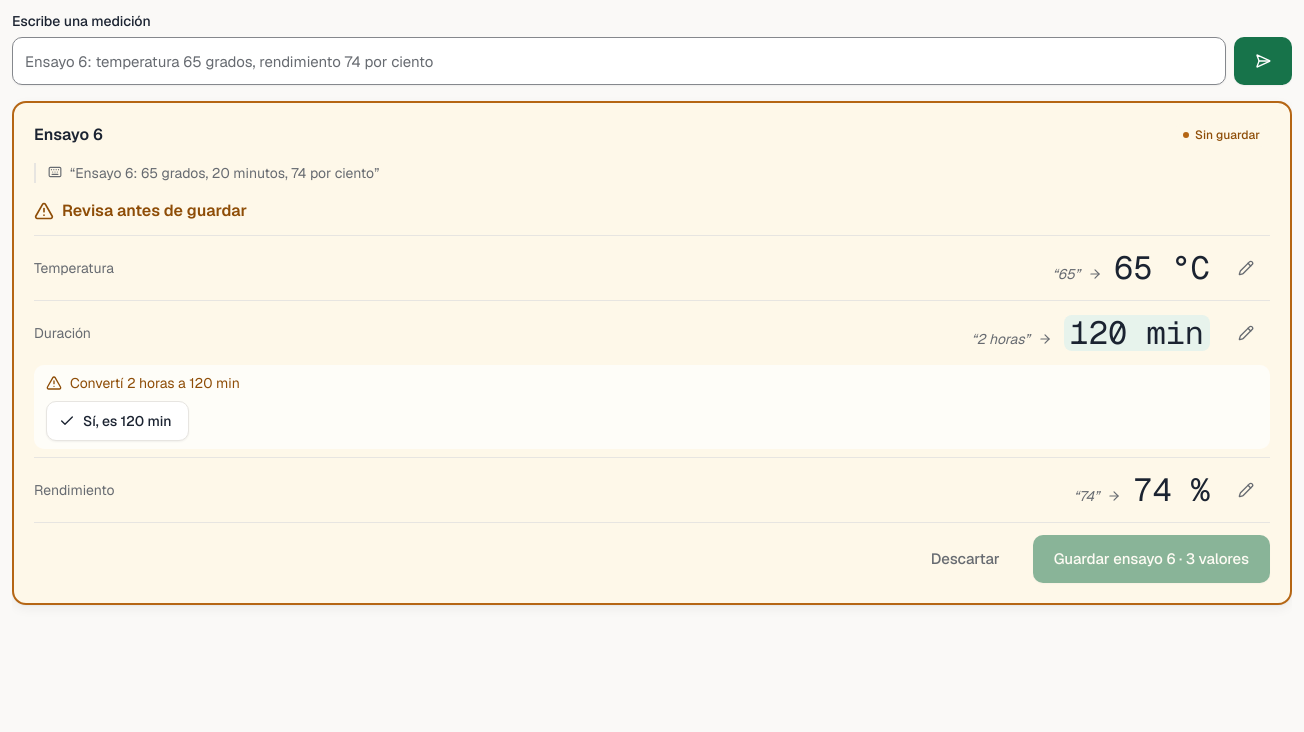
Test: CaptureStage (spec 0006, AC-18) › checks a flagged value through the API
Expected: the button "Guardar ensayo 6 · 3 valores" is disabled, [1033,535,1270,583]
Click the button "Sí, es 120 min": click(117, 421) [46,401,189,441]
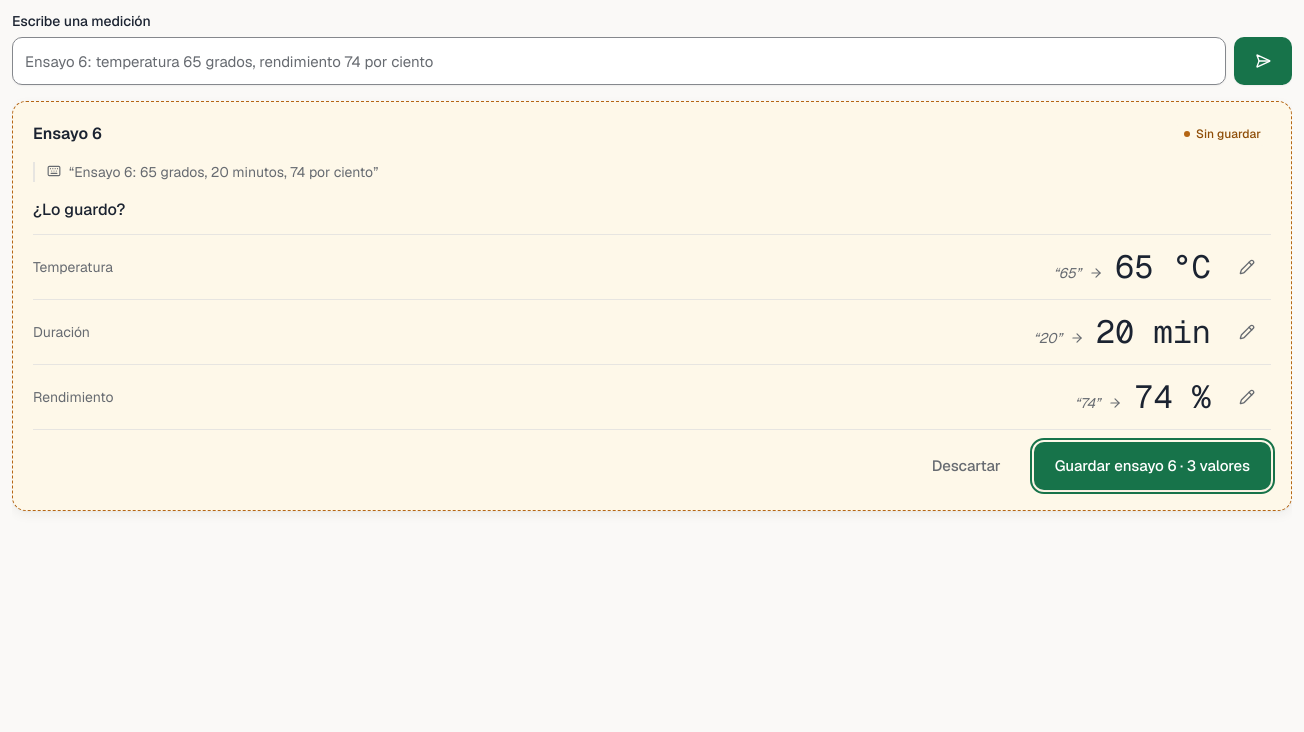
Expected: the button "Guardar ensayo 6 · 3 valores" is enabled, [1034,442,1271,490]
